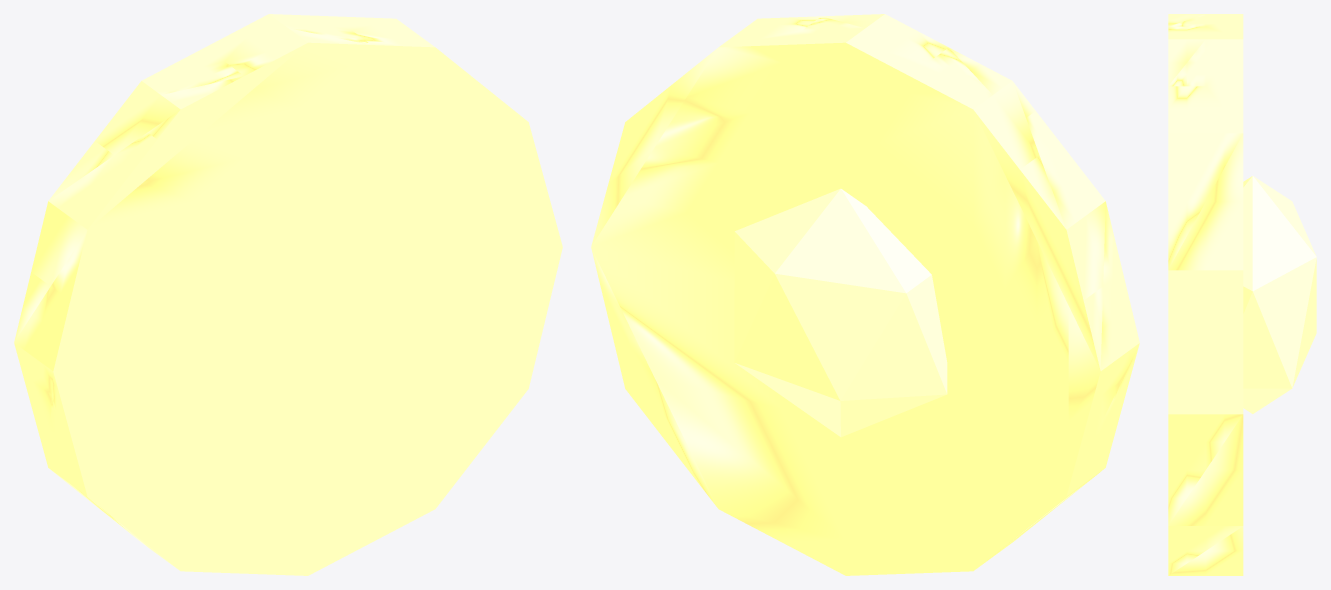
File: coin.glb
3 renders of one model, left to right at view 1: azimuth 30°, elevation 25°; view 2: azimuth 150°, elevation 25°; view 3: azimuth 270°, elevation 25°, orthographic. The views are drawn at different scales.
Parts seen in each view (by area): view 1: Coin; view 2: Coin; view 3: Coin.
Boxes of the visible parts, <box> form: Coin: <box>14,14,562,575</box>; Coin: <box>591,14,1139,575</box>; Coin: <box>1168,14,1316,575</box>.
Bounding box in the file's own units: 0.6 × 0.6 × 0.1581.
